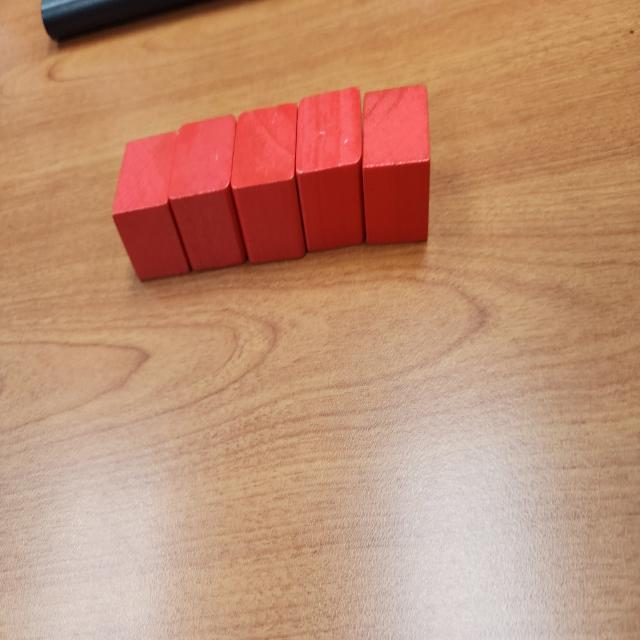red: (229, 101, 308, 265), (167, 113, 247, 273), (111, 128, 193, 283), (294, 88, 366, 255), (361, 84, 432, 246)
